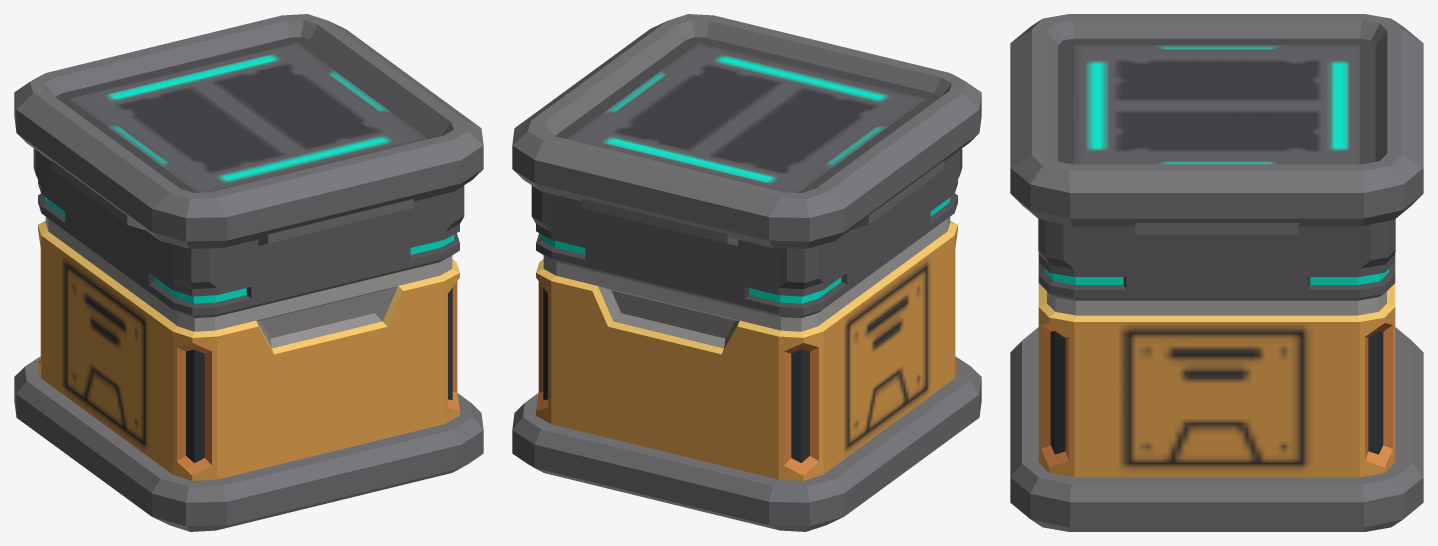
File: SM_Prop_Crate_01.fbx
3 views of the same model, side by side, from view 1: azimuth 30°, elevation 25°; view 2: azimuth 150°, elevation 25°; view 3: azimuth 270°, elevation 25° (orthographic). The views are drawn at different scales.
Parts seen in each view (by area): view 1: SM_Prop_Crate_01; view 2: SM_Prop_Crate_01; view 3: SM_Prop_Crate_01.
Part boxes in pixels (x1,y1,x2,y2): SM_Prop_Crate_01: [14, 14, 483, 531]; SM_Prop_Crate_01: [512, 14, 981, 531]; SM_Prop_Crate_01: [1010, 14, 1423, 531].
Size of the model in its own units: 97.39 by 93.96 by 97.39.
